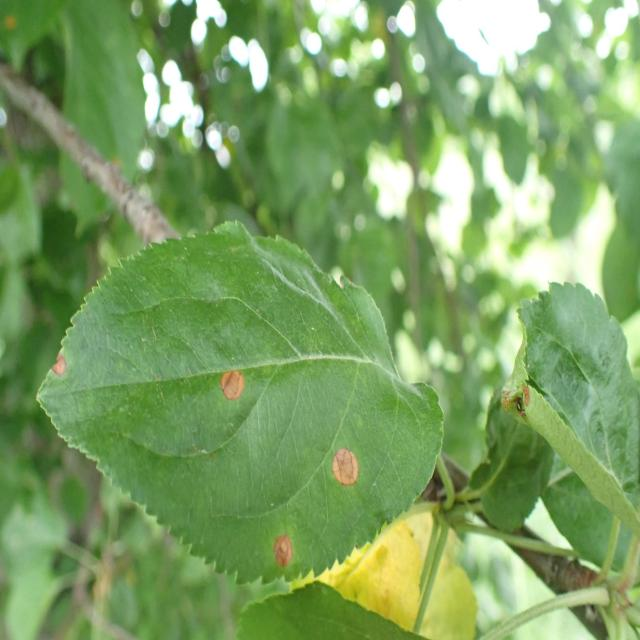Black Rot: (310, 422, 374, 520), (254, 491, 312, 587), (206, 343, 257, 418)
